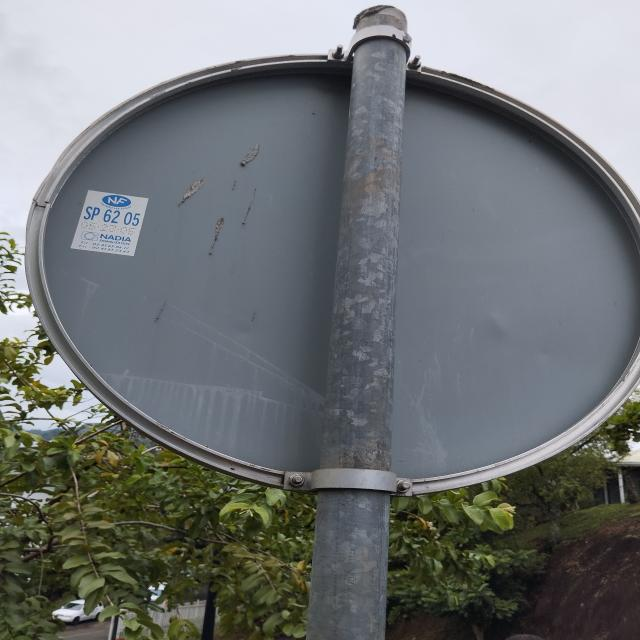Panneau: (27, 39, 640, 500)
